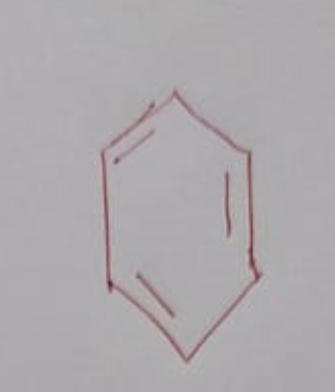shape_mask: (80, 76, 280, 376)
